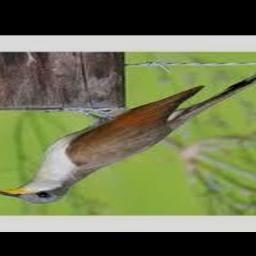Cuckoo: (0, 65, 256, 204)
